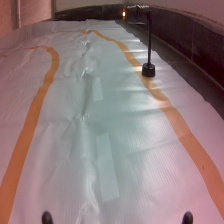yellow: (119, 3, 158, 80)
